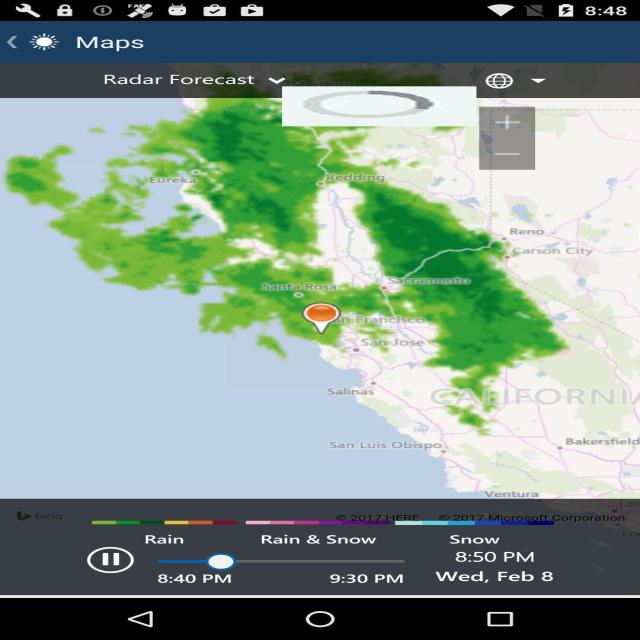misdirection: (282, 86, 477, 126)
